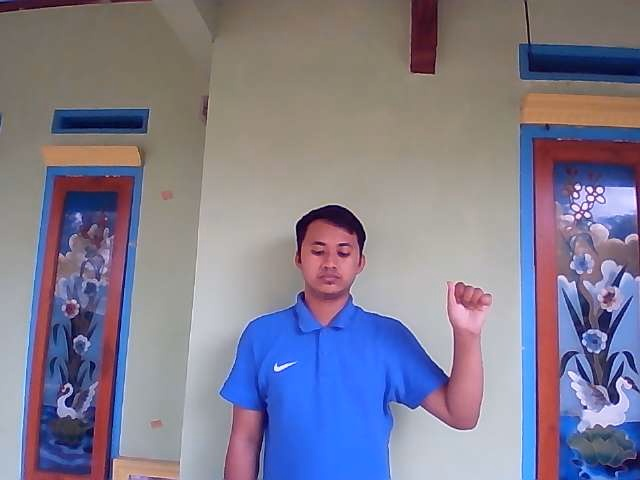A: (445, 280, 493, 334)
